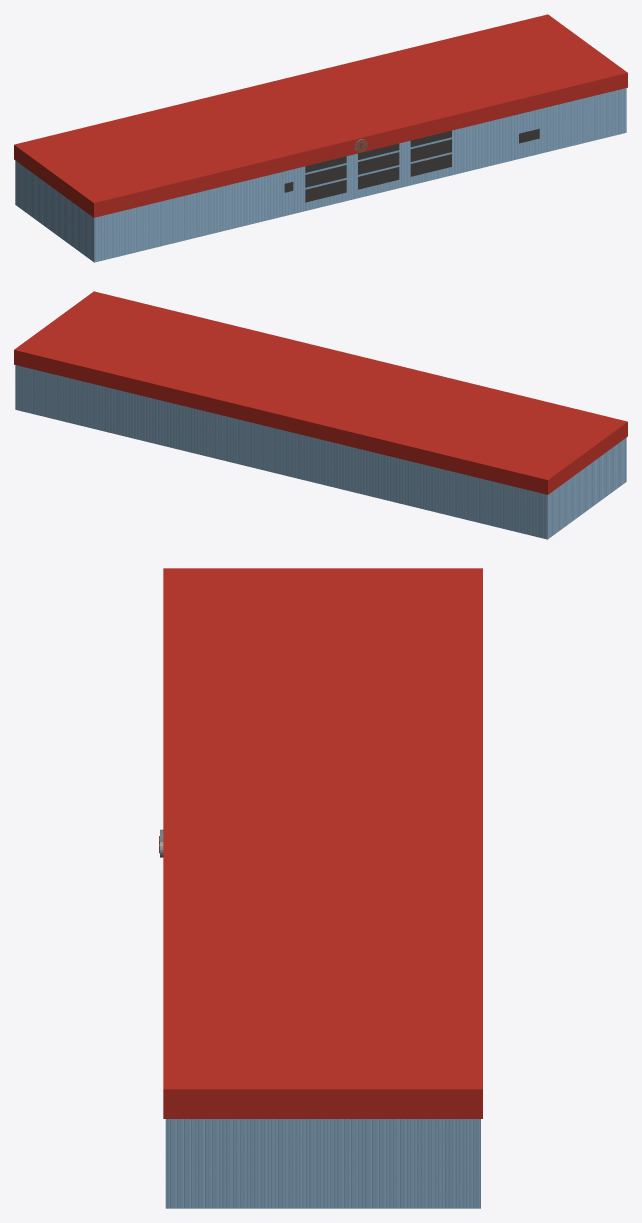
Rendered from cyxd_hangar15_wing.gltf.
The picture shows the model from 3 angles, top to bottom: view 1: azimuth 30°, elevation 25°; view 2: azimuth 150°, elevation 25°; view 3: azimuth 270°, elevation 25°; orthographic projection. The views are drawn at different scales.
Visible parts, largest first — view 1: cyxd_hangar15_wing; view 2: cyxd_hangar15_wing; view 3: cyxd_hangar15_wing.
Part boxes in pixels (left/top/right/bottom): cyxd_hangar15_wing: left=14, top=14, right=627, bottom=262; cyxd_hangar15_wing: left=14, top=291, right=627, bottom=539; cyxd_hangar15_wing: left=159, top=568, right=482, bottom=1208.
Size of the model in its own units: 56.7 by 6.1 by 14.91.
